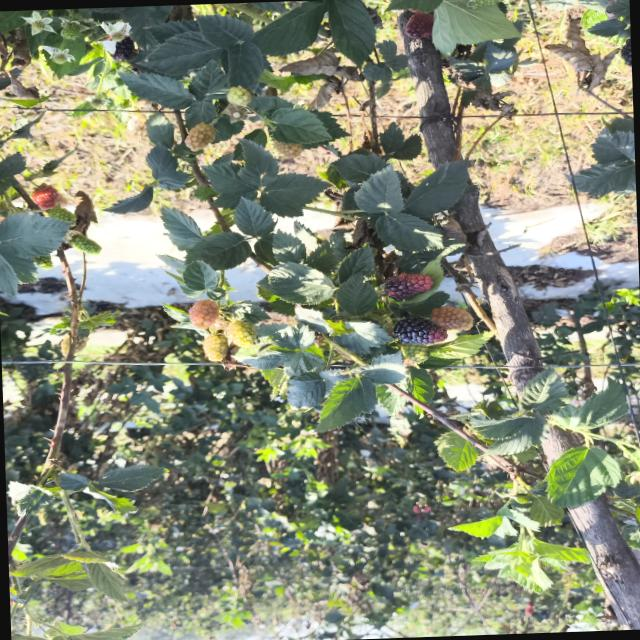marron: (394, 317, 447, 345), (385, 273, 433, 299)
naranja: (431, 306, 473, 330), (189, 299, 219, 328), (185, 123, 215, 150), (405, 10, 433, 38), (31, 184, 59, 210)
verde: (226, 320, 257, 347), (202, 334, 228, 361), (69, 235, 101, 254), (45, 205, 76, 223), (401, 344, 428, 363), (227, 86, 251, 105), (472, 0, 504, 7)
